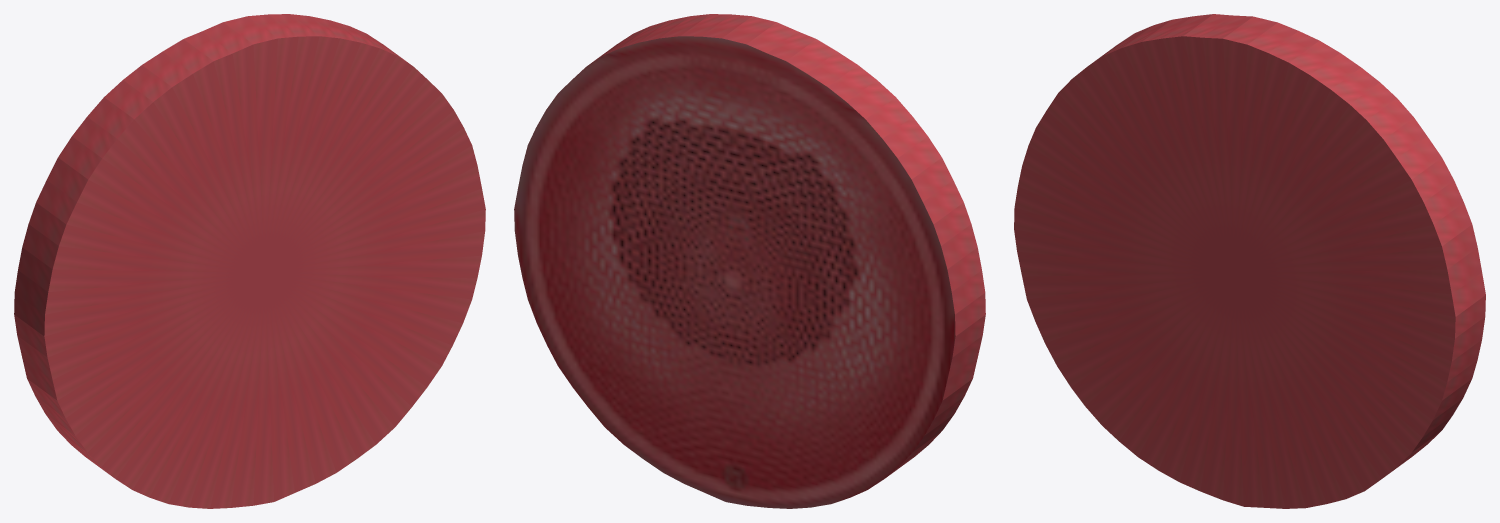
File: systemsensor_lseries_ceiling_speaker.obj
3 renders of one model, left to right at view 1: azimuth 30°, elevation 25°; view 2: azimuth 150°, elevation 25°; view 3: azimuth 330°, elevation 25°, orthographic.
Visible parts, largest first — view 1: lseries_ceiling_speaker; view 2: lseries_ceiling_speaker; view 3: lseries_ceiling_speaker.
Boxes of the visible parts, x1,y1,x2,y2 form: lseries_ceiling_speaker: (14, 14, 485, 508); lseries_ceiling_speaker: (514, 14, 985, 508); lseries_ceiling_speaker: (1014, 14, 1485, 508).
Size of the model in its own units: 0.84 by 0.8415 by 0.1.
